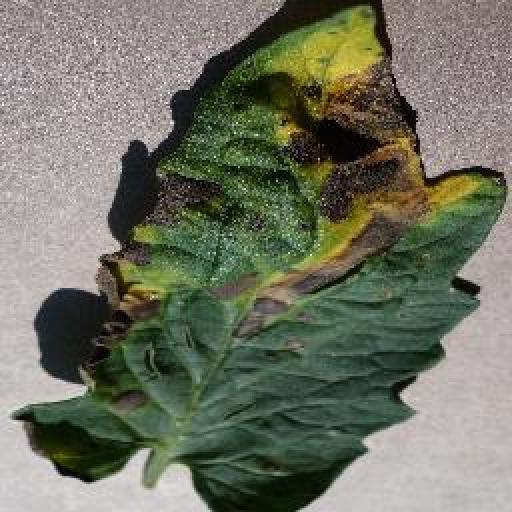disease_tomato: (18, 6, 508, 512)
